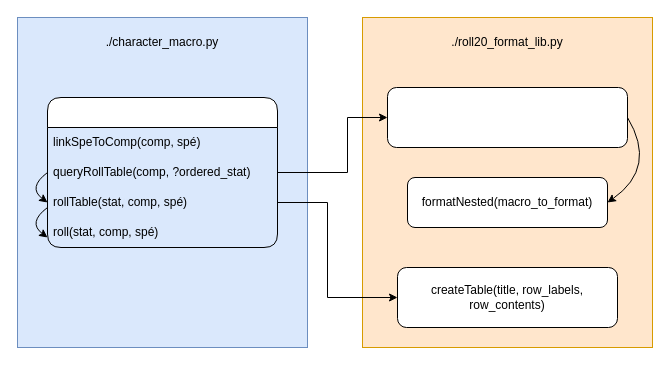
Some shapes in this 670 by 365 pixel diagram are drawn without their labels. The shapes that lost their labels are listed below. From the top down, each one's box as (x1, y1, x2, y2) in pixels, then its label:
(386, 86, 628, 148): createDropdown(title, labels, outputs)
(46, 96, 278, 248): StatBlock
